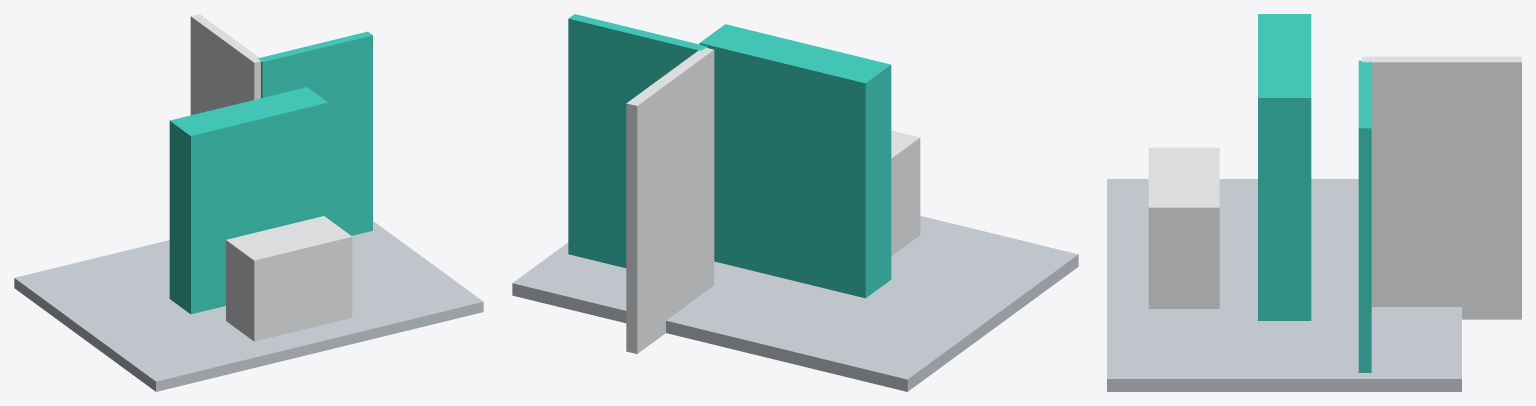
3 views of the same model, side by side, from view 1: azimuth 30°, elevation 25°; view 2: azimuth 150°, elevation 25°; view 3: azimuth 270°, elevation 25° (orthographic). The views are drawn at different scales.
Parts seen in each view (by area): view 1: Exhibition Booth Concept; view 2: Exhibition Booth Concept; view 3: Exhibition Booth Concept.
Part boxes in pixels (box(x1,y1,x2,y2)): Exhibition Booth Concept: box(14, 14, 483, 391); Exhibition Booth Concept: box(512, 14, 1078, 391); Exhibition Booth Concept: box(1107, 14, 1521, 391).
Size of the model in its own units: 4 by 2.4 by 3.51.
